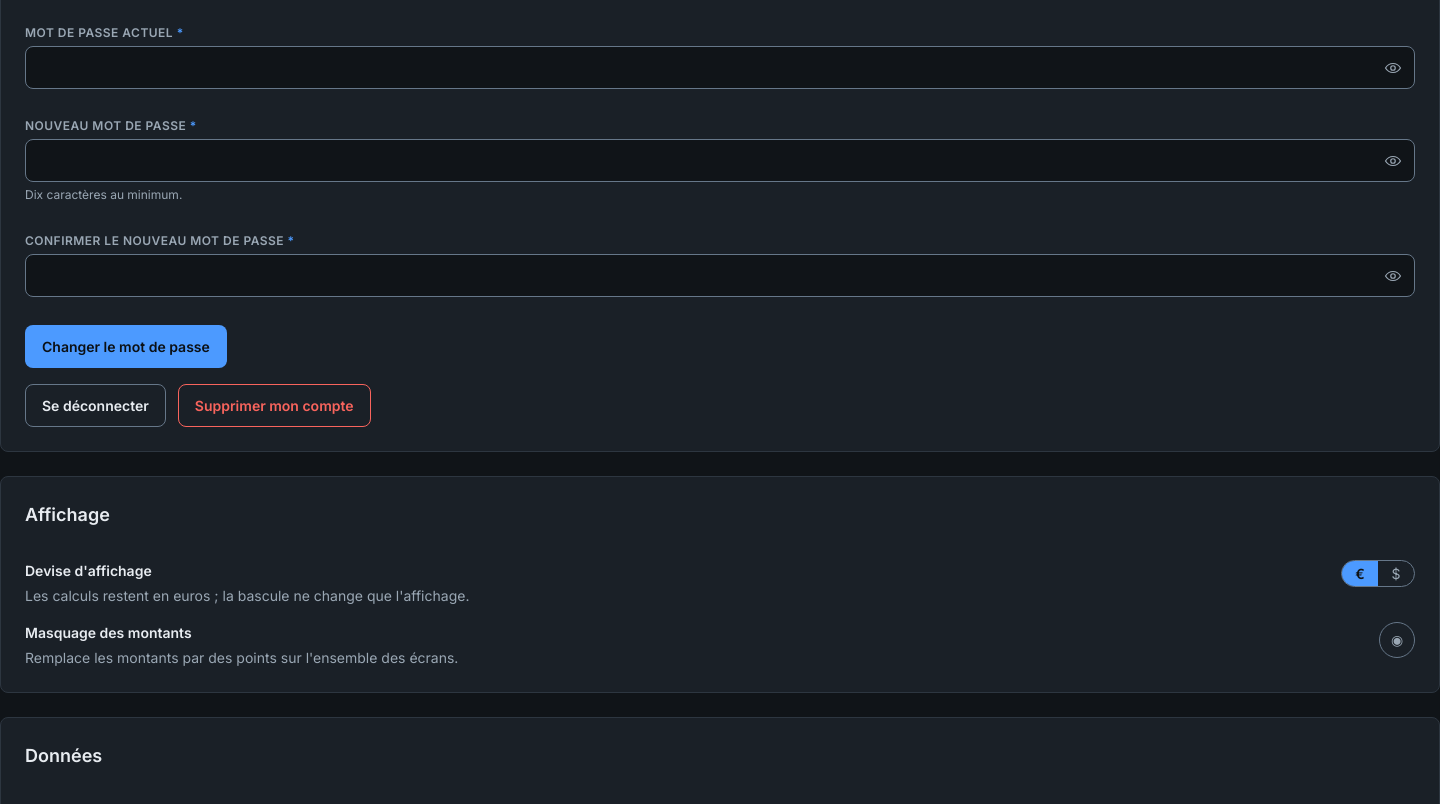
suppression du compte › affiche l’erreur du serveur sur le champ et ne redirige pas
(page scrolled)
Click the button "Supprimer mon compte" at (274, 406), box [178, 384, 371, 427]
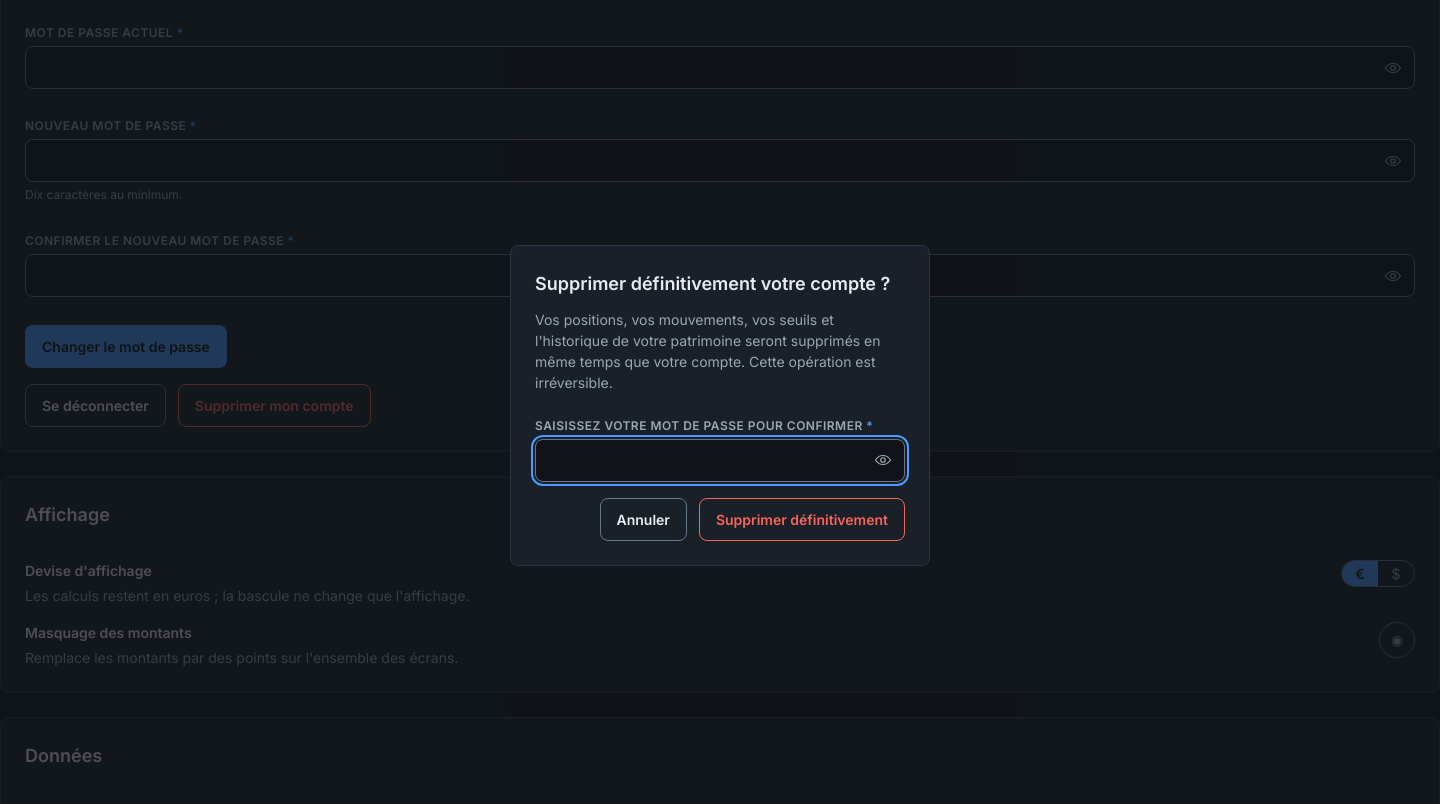
Type "faux" into the password field labelled "Saisissez votre mot de passe pour confirmer *" at (720, 460), box [535, 438, 905, 482]
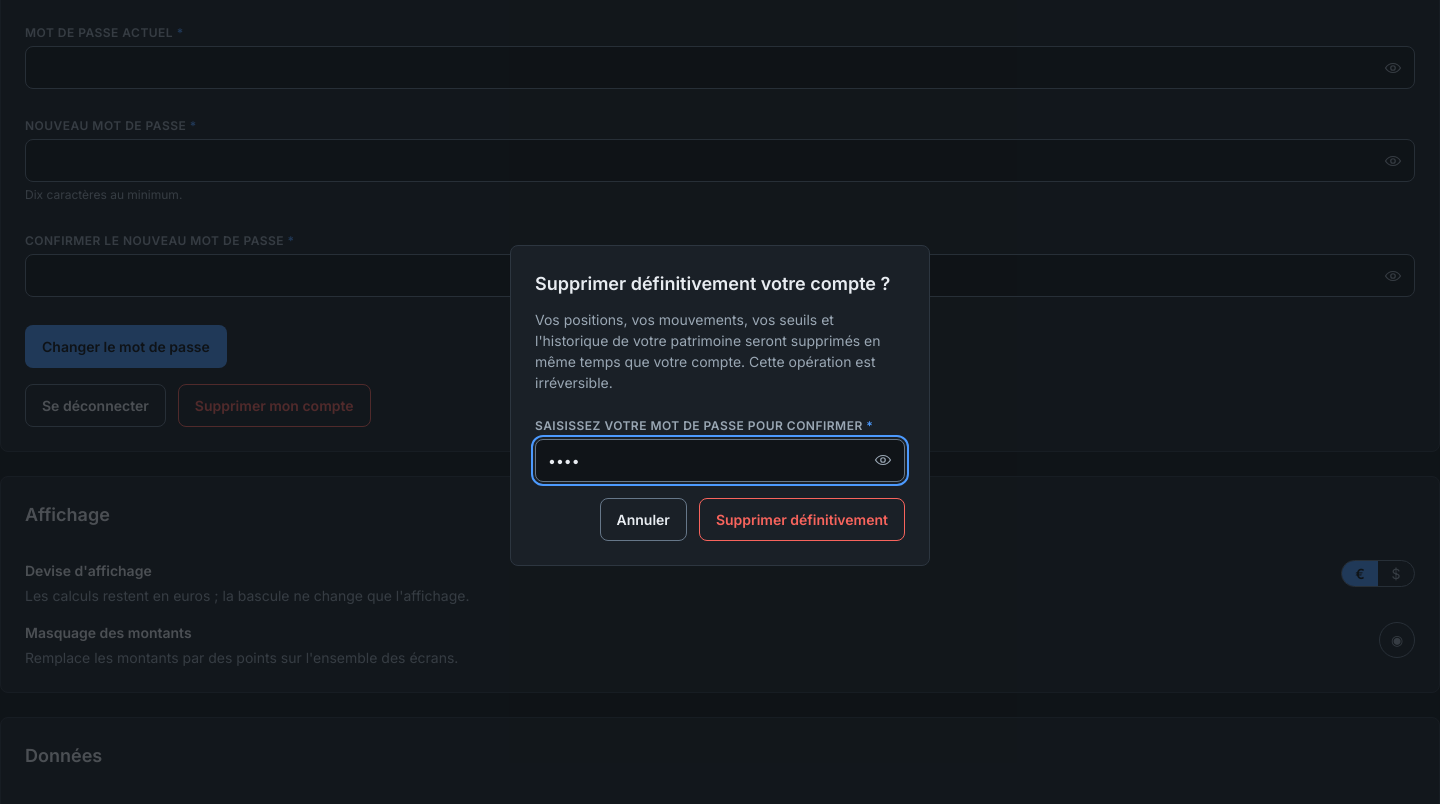
Click the button "Supprimer définitivement" at (802, 519), box [699, 498, 905, 540]
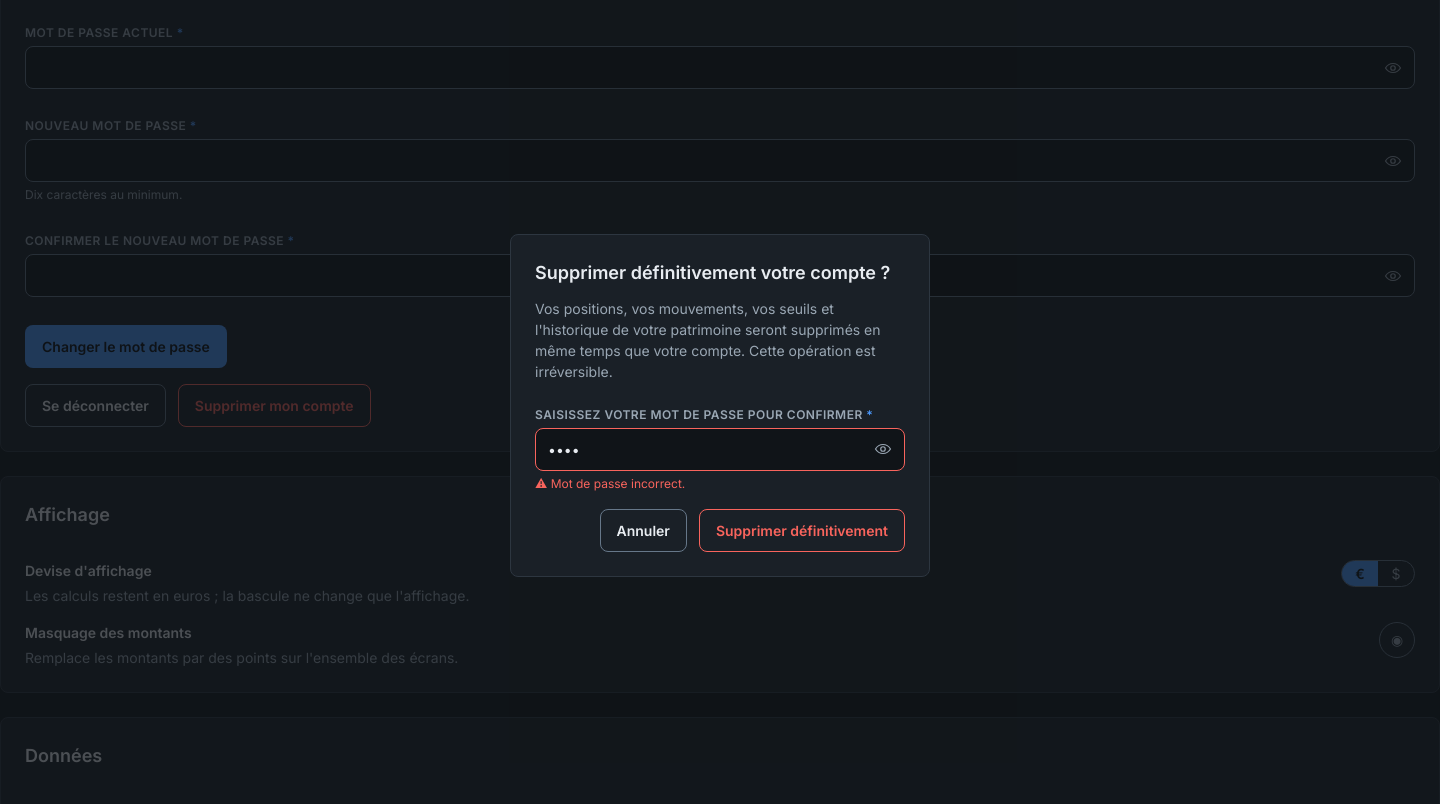
Result: the text "Mot de passe incorrect." is shown at [551, 476, 685, 490]
